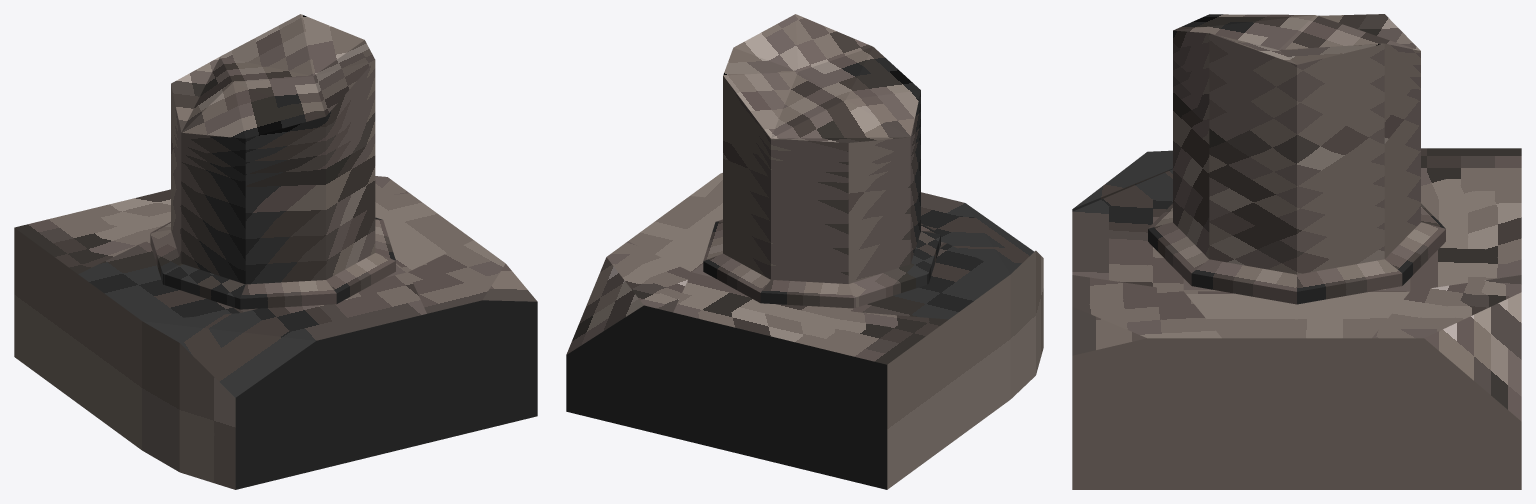
The model's file is broken_pillar_544x03.gltf.
3 views of the same model, side by side, from view 1: azimuth 30°, elevation 25°; view 2: azimuth 150°, elevation 25°; view 3: azimuth 270°, elevation 25° (orthographic). The views are drawn at different scales.
Visible parts, largest first — view 1: broken_pillar_544x03; view 2: broken_pillar_544x03; view 3: broken_pillar_544x03.
Boxes of the visible parts, box(x1,y1,x2,y2) form: broken_pillar_544x03: box(14, 14, 537, 489); broken_pillar_544x03: box(566, 14, 1043, 489); broken_pillar_544x03: box(1072, 14, 1521, 489).
Bounding box in the file's own units: 1.42 × 1.39 × 1.42.
Materials: 1 (1 with a texture image).
